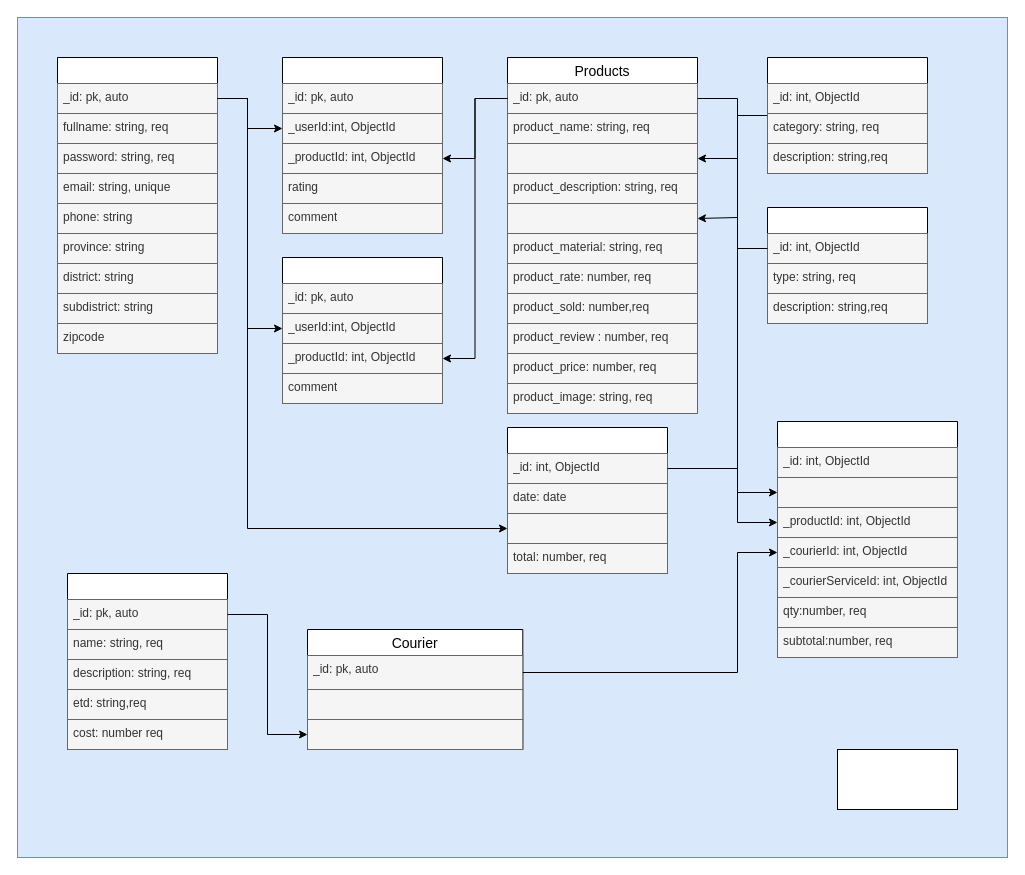
This 1025x875 diagram has some shape labels left out. Here are the shapes that lost their labels. From the top down, the box of each, then its label:
(766, 56, 928, 174): Product Category
(282, 56, 442, 234): Reviews
(506, 142, 698, 174): _category_id: int, ObjectId
(56, 56, 218, 354): Users
(506, 202, 698, 234): _typeId: int, ObjectId
(766, 206, 928, 324): Product Type
(282, 256, 442, 404): Discuss
(506, 426, 668, 574): Transactions
(776, 476, 958, 508): _transactionId: int, ObjectId
(506, 512, 668, 544): _userId: int, ObjectId
(776, 420, 958, 658): Transaction Details
(66, 572, 228, 750): Courier Services
(306, 688, 523, 720): courier: string, req
(306, 718, 523, 750): _idCourierService: int, ObjectId
(836, 748, 958, 810): FS - 3 Naufal Alief
